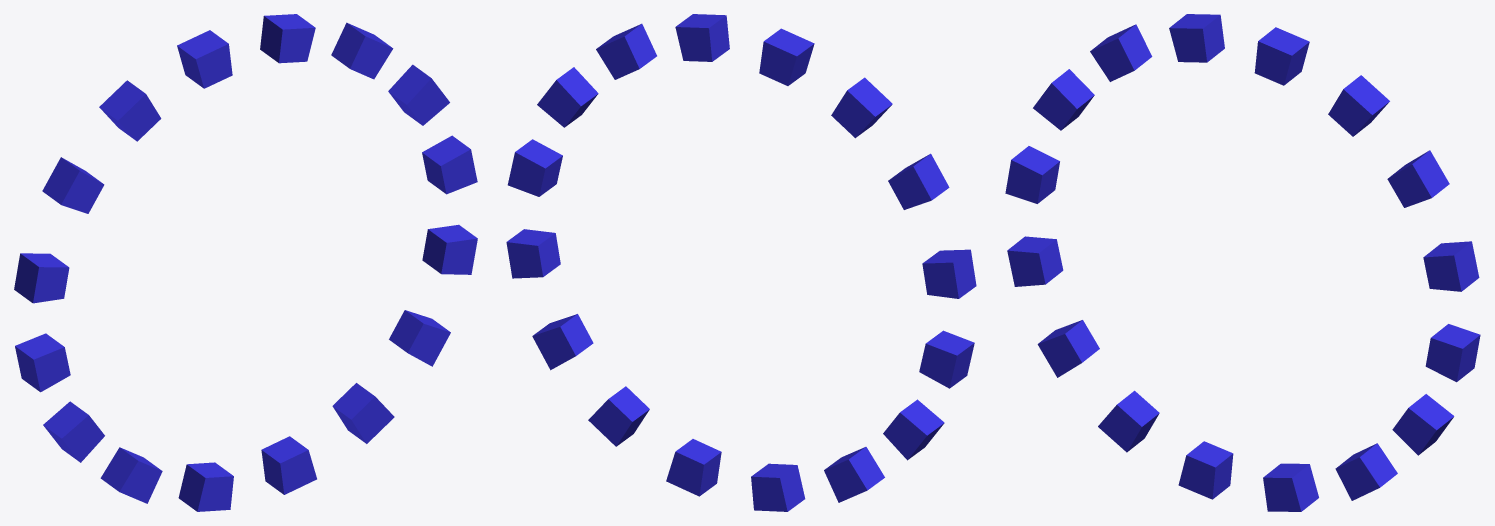
3 renders of one model, left to right at view 1: azimuth 30°, elevation 25°; view 2: azimuth 150°, elevation 25°; view 3: azimuth 330°, elevation 25°, orthographic.
Parts seen in each view (by area): view 1: BezierCircle.001; view 2: BezierCircle.001; view 3: BezierCircle.001.
Part boxes in pixels (x1,y1,x2,y2): BezierCircle.001: (14, 14, 477, 511); BezierCircle.001: (506, 14, 976, 511); BezierCircle.001: (1005, 14, 1480, 511).
Bounding box in the file's own units: 99.44 × 99.37 × 9.38.
